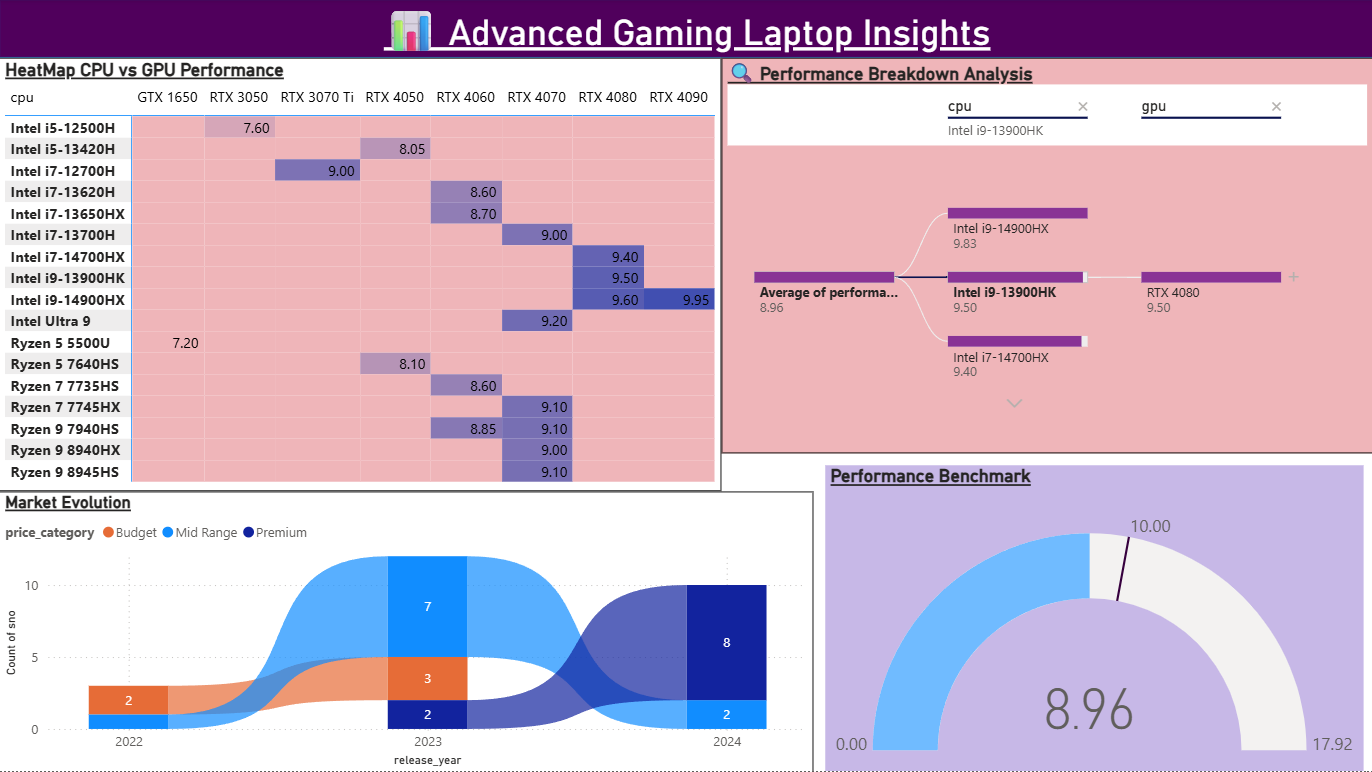

Layout of this report page (visuals, bound fields, positions):
{"tool":"powerbi","page":{"name":"Advanced Gaming Laptop Insights","canvas":[1280,720],"ordinal":2},"visuals":[{"type":"shape","box":[0,0,1280.3,54.9],"z":0},{"type":"pivotTable","title":"HeatMap CPU vs GPU Performance","fields":{"Rows":["laptop_dashboard.cpu"],"Columns":["laptop_dashboard.gpu"],"Values":["Avg(laptop_dashboard.performance_score)"]},"box":[0,54.9,672.4,403.4],"z":1},{"type":"decompositionTreeVisual","title":"🔍 Performance Breakdown Analysis","fields":{"Analyze":["Avg(laptop_dashboard.performance_score)"],"ExplainBy":["laptop_dashboard.cpu","laptop_dashboard.gpu","laptop_dashboard.region","laptop_dashboard.price_category"]},"box":[672.4,54.9,607.9,367.8],"z":2},{"type":"ribbonChart","title":"Market Evolution","fields":{"Category":["laptop_dashboard.release_year"],"Series":["laptop_dashboard.price_category"],"Y":["CountNonNull(laptop_dashboard.sno)"]},"box":[0,458.3,757.5,262.1],"z":3},{"type":"gauge","title":"Performance Benchmark","fields":{"Y":["laptop_dashboard.Avg Performance"],"TargetValue":["laptop_dashboard.Target Performance"]},"box":[768.4,433.6,500.9,286.8],"z":4}]}

Visuals, with their boxes in screenshot pixels (x1, y1, x2, y2), scaled from the page's 1280x720 canvas onto the 1372x772 screenshot:
shape: [x1=0, y1=0, x2=1371, y2=59]
"HeatMap CPU vs GPU Performance" pivotTable: [x1=0, y1=59, x2=721, y2=491]
"🔍 Performance Breakdown Analysis" decompositionTreeVisual: [x1=721, y1=59, x2=1371, y2=453]
"Market Evolution" ribbonChart: [x1=0, y1=491, x2=812, y2=771]
"Performance Benchmark" gauge: [x1=824, y1=465, x2=1361, y2=771]
